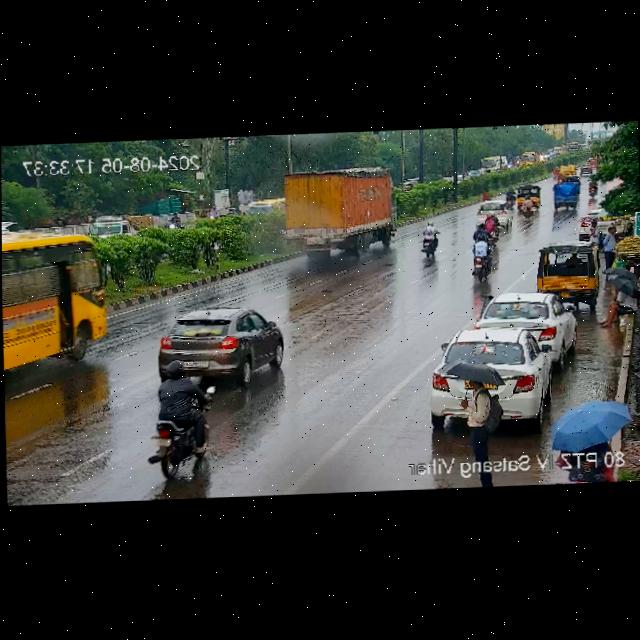bus: (2, 214, 106, 372), (479, 154, 503, 176), (518, 151, 539, 169)
car: (426, 329, 548, 417), (150, 306, 278, 380), (476, 291, 574, 352), (534, 243, 601, 301), (472, 200, 516, 233), (548, 178, 581, 212), (242, 194, 285, 220), (512, 184, 543, 212), (549, 164, 576, 179)
motorcycle: (143, 371, 219, 476), (465, 230, 497, 281), (411, 222, 442, 257), (475, 212, 503, 242), (516, 192, 538, 220), (584, 175, 601, 200), (166, 211, 185, 232)
person: (455, 370, 501, 453), (599, 280, 640, 326), (595, 225, 619, 268)
truck: (275, 167, 397, 259)
